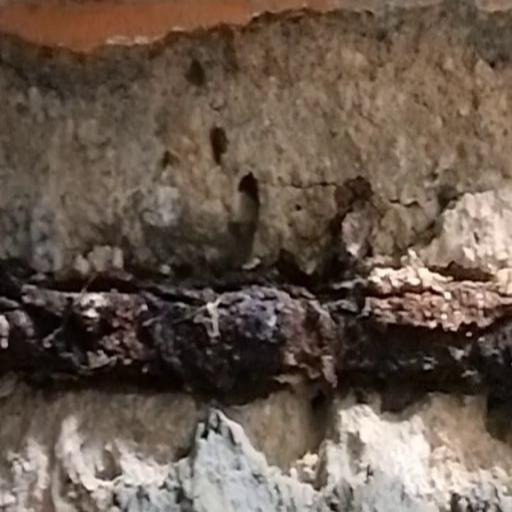spalling: (0, 44, 512, 502)
